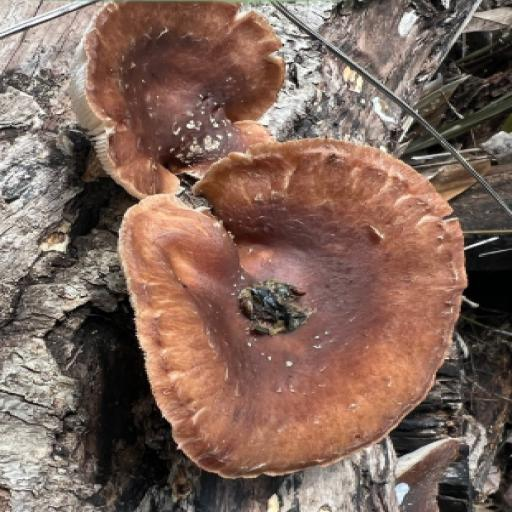Shiitake Mushroom: (72, 0, 485, 490)
